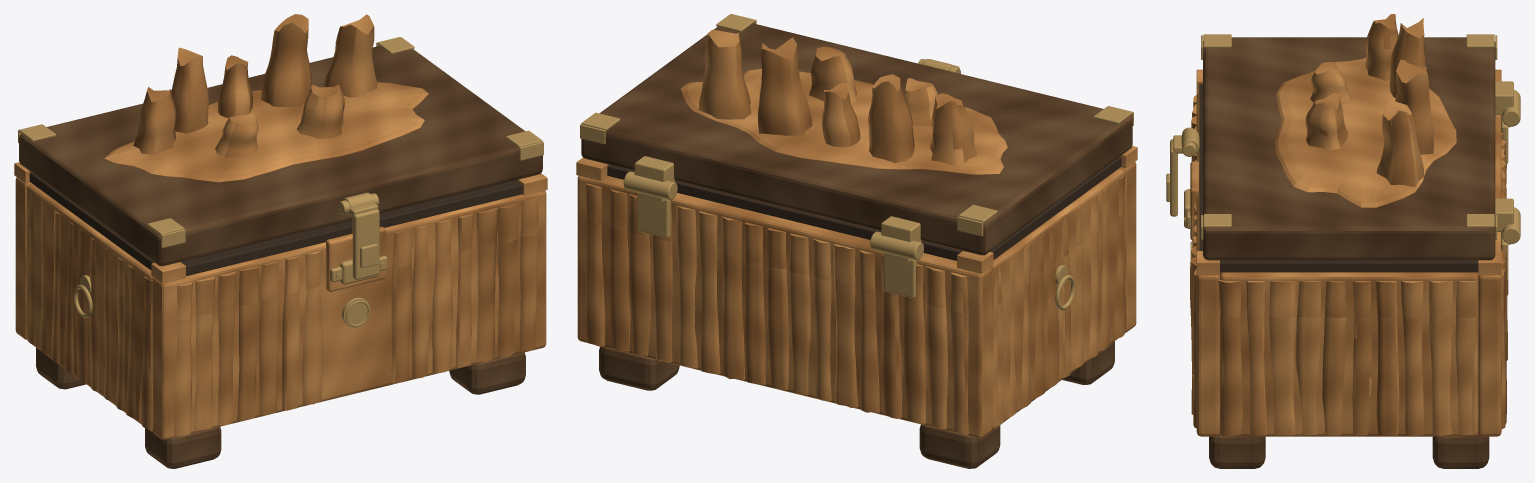
Rendered from algeria.glb.
The picture shows the model from 3 angles, left to right: view 1: azimuth 30°, elevation 25°; view 2: azimuth 150°, elevation 25°; view 3: azimuth 270°, elevation 25°; orthographic projection. The views are drawn at different scales.
Parts seen in each view (by area): view 1: Lid / polished slab, Sandstone / body long, Terrain / sand apron, Sandstone / body side, Mineral seam / long, Tassili / tower 03, Tassili / tower 04, Erosion / long flute.007, Erosion / long flute.011, Erosion / long flute.009, Erosion / long flute.003, Erosion / long flute.006 (+33 smaller); view 2: Lid / polished slab, Sandstone / body long.001, Sandstone / body side, Terrain / sand apron, Tassili / tower 03, Tassili / tower 04, Erosion / long flute.024, Erosion / long flute.019, Erosion / long flute.015, Tassili / tower 01, Mineral seam / long.001, Erosion / long flute.022 (+40 smaller); view 3: Lid / polished slab, Sandstone / body side.001, Terrain / sand apron, Sandstone / body long.001, Sandstone / body long, Erosion / side flute.012, Mineral seam / side.001, Erosion / side flute.016, Erosion / side flute.013, Erosion / side flute.018, Erosion / side flute.014, Erosion / side flute.010 (+28 smaller).
Boxes of the visible parts, box(x1,y1,x2,y2) form: Lid / polished slab: box(19, 46, 542, 266); Sandstone / body long: box(152, 190, 546, 439); Terrain / sand apron: box(104, 82, 428, 182); Sandstone / body side: box(27, 183, 153, 431); Mineral seam / long: box(181, 180, 522, 275); Tassili / tower 03: box(261, 14, 311, 106); Tassili / tower 04: box(324, 14, 377, 97); Erosion / long flute.007: box(391, 229, 411, 383); Erosion / long flute.011: box(476, 207, 498, 362); Erosion / long flute.009: box(432, 219, 452, 373); Erosion / long flute.003: box(237, 266, 258, 420); Erosion / long flute.006: box(302, 250, 323, 404); Lid / polished slab: box(581, 23, 1132, 255); Sandstone / body long.001: box(577, 175, 991, 438); Sandstone / body side: box(991, 168, 1124, 429); Terrain / sand apron: box(680, 68, 1007, 174); Tassili / tower 03: box(758, 37, 812, 135); Tassili / tower 04: box(698, 29, 751, 119); Erosion / long flute.024: box(721, 216, 744, 380); Erosion / long flute.019: box(833, 243, 857, 407); Erosion / long flute.015: box(924, 266, 947, 428); Tassili / tower 01: box(868, 74, 914, 163); Mineral seam / long.001: box(607, 164, 962, 260); Erosion / long flute.022: box(768, 228, 788, 389); Lid / polished slab: box(1203, 37, 1495, 260); Sandstone / body side.001: box(1220, 272, 1478, 436); Terrain / sand apron: box(1275, 57, 1456, 207); Sandstone / body long.001: box(1478, 114, 1501, 436); Sandstone / body long: box(1196, 94, 1219, 436); Erosion / side flute.012: box(1269, 281, 1295, 435); Mineral seam / side.001: box(1220, 260, 1478, 272); Erosion / side flute.016: box(1375, 281, 1399, 435); Erosion / side flute.013: box(1296, 281, 1321, 435); Erosion / side flute.018: box(1429, 281, 1452, 435); Erosion / side flute.014: box(1322, 281, 1345, 435); Erosion / side flute.010: box(1218, 279, 1242, 435).
Bounding box in the file's own units: 3.83 × 3.05 × 2.88.
Materials: 4 (2 with a texture image).
